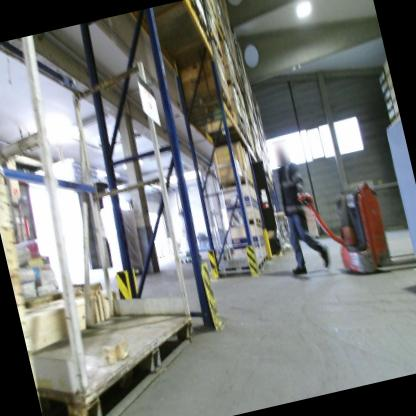pallet: (178, 82, 237, 133), (181, 0, 210, 42), (206, 123, 247, 152), (203, 29, 225, 62), (220, 80, 241, 99), (178, 252, 201, 267), (244, 136, 254, 153), (388, 114, 398, 124)
pallet_truck: (295, 164, 416, 292)
